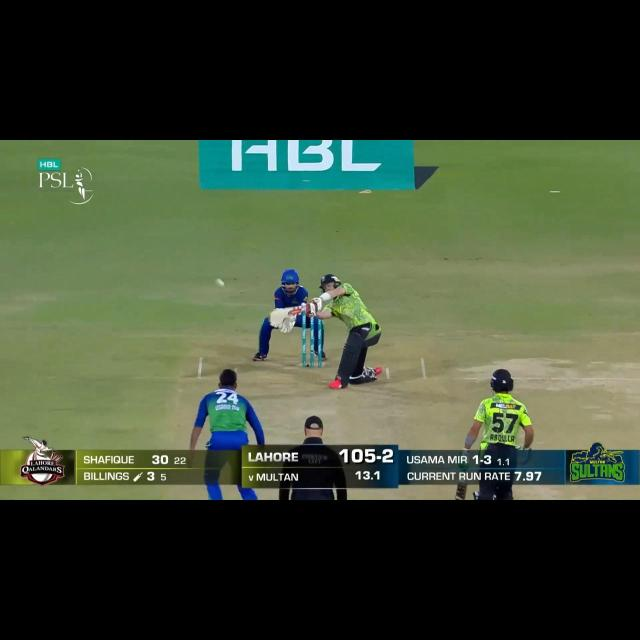bat: (273, 306, 308, 320), (456, 486, 466, 501)
toe: (272, 306, 281, 322)
